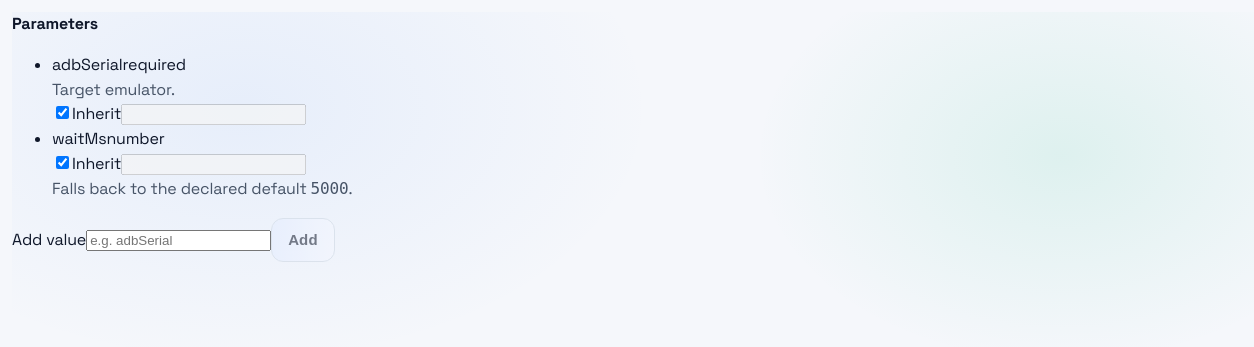
Test: ParameterBindingForm › allows an ad-hoc value on a template entry and marks it as such
The image size is (1254, 347).
Type "targetSerial" into the field named "New parameter value name" at {"x": 179, "y": 241}, box [86,230,271,251]
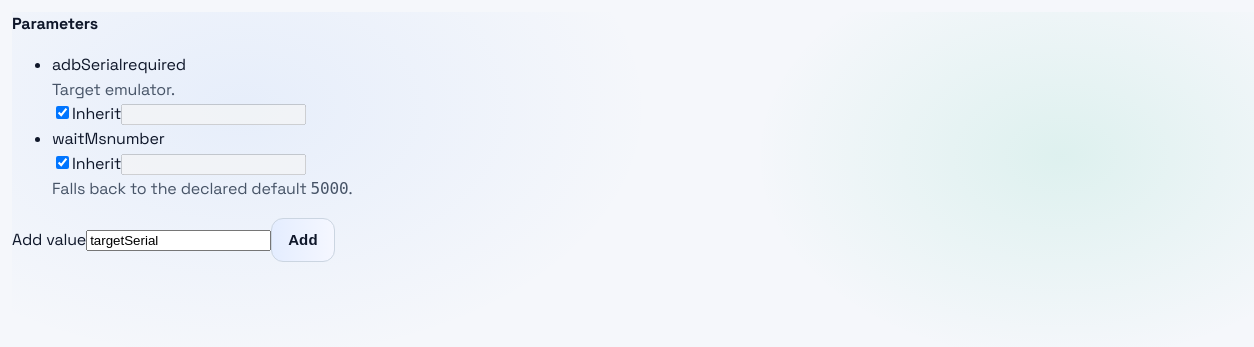
Click the button "Add" at {"x": 303, "y": 240}, box [271,218,335,262]
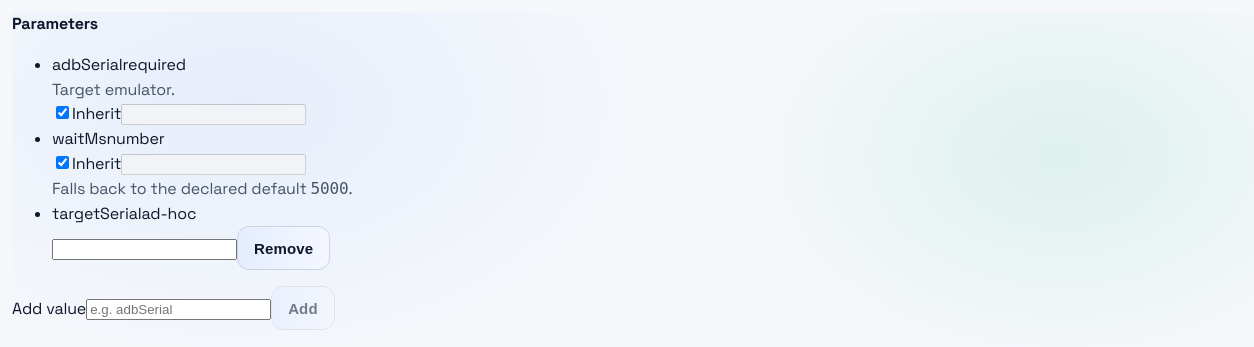
expect the text "targetSerial" is shown: met, box [52,203,142,224]
expect the text "ad-hoc" is shown: met, box [142,203,196,224]
